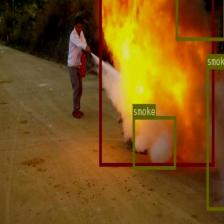fire: (100, 0, 214, 166)
smoke: (206, 65, 224, 209), (132, 116, 176, 169), (175, 0, 224, 40)
